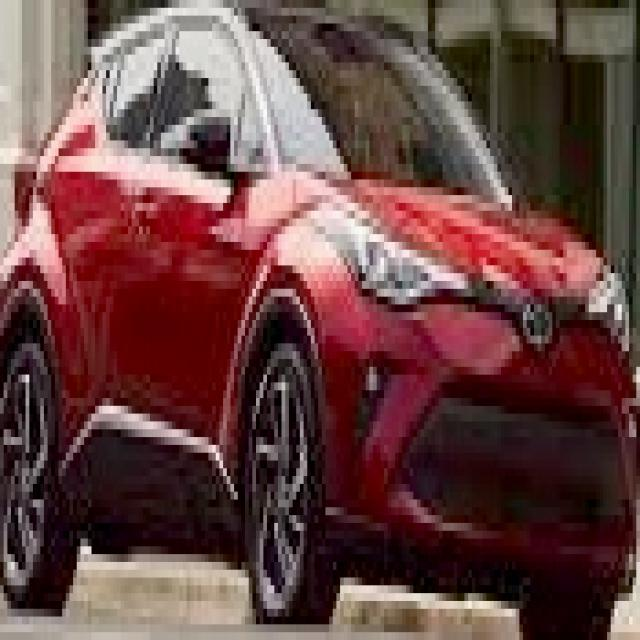maroon: (0, 3, 636, 634)
